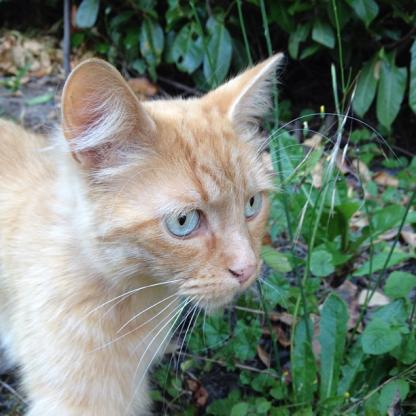Target: (0, 45, 285, 416)
